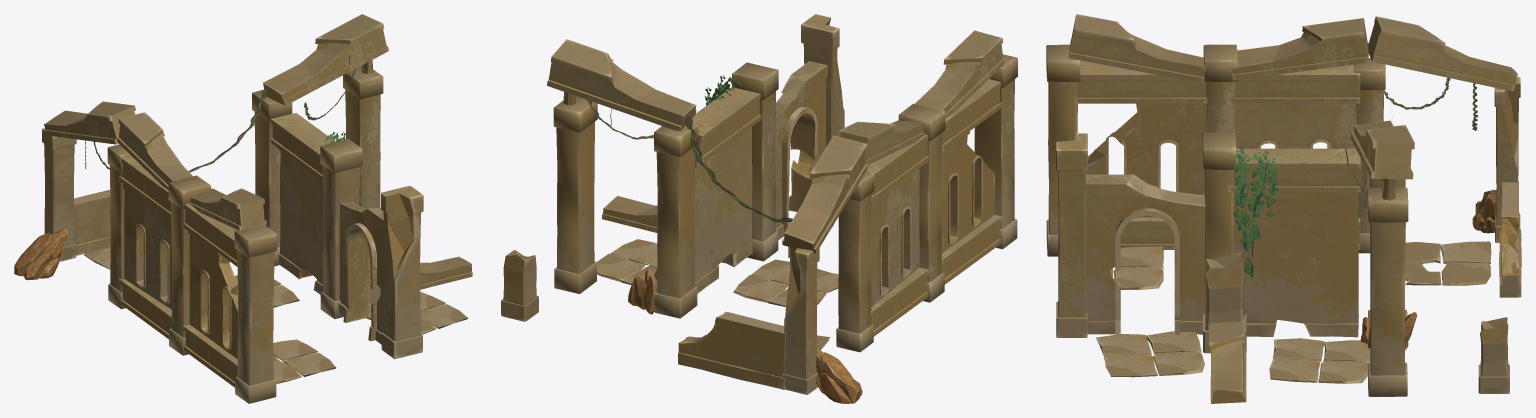
File: ruin.glb
3 renders of one model, left to right at view 1: azimuth 30°, elevation 25°; view 2: azimuth 150°, elevation 25°; view 3: azimuth 270°, elevation 25°, orthographic. The views are drawn at different scales.
Visible parts, largest first — view 1: Cube.006, Coloum.019, Cube.088, Coloum.012, Coloum.042, Wall.043, Wall.041, Coloum.014, Coloum.015, Cube.101, Coloum.011, Coloum.043 (+5 smaller); view 2: Cube.006, Coloum.019, Cube.088, Coloum.015, Coloum.016, Wall.043, Wall.019, Coloum.010, Coloum.014, Wall.041, Coloum.043, Coloum.012 (+7 smaller); view 3: Coloum.019, Cube.006, Cube.088, Wall.043, Cube.101, Coloum.015, Wall.041, Coloum.042, Coloum.044, Coloum.012, Coloum.014, Cube.095 (+9 smaller).
Boxes of the visible parts, <box> form: Cube.006: <box>43,14,472,289</box>; Coloum.019: <box>123,148,323,337</box>; Cube.088: <box>118,113,335,387</box>; Coloum.012: <box>234,225,276,403</box>; Coloum.042: <box>381,185,423,358</box>; Wall.043: <box>338,202,384,344</box>; Wall.041: <box>188,231,237,358</box>; Coloum.014: <box>320,139,362,318</box>; Coloum.015: <box>343,65,383,208</box>; Cube.101: <box>235,275,467,384</box>; Coloum.011: <box>168,175,210,355</box>; Coloum.043: <box>42,128,76,261</box>; Cube.006: <box>547,30,1005,253</box>; Coloum.019: <box>694,126,919,306</box>; Cube.088: <box>692,79,1003,336</box>; Coloum.015: <box>553,96,597,293</box>; Coloum.016: <box>654,123,697,318</box>; Wall.043: <box>775,61,827,239</box>; Wall.019: <box>678,311,785,389</box>; Coloum.010: <box>836,171,874,352</box>; Coloum.014: <box>732,62,778,261</box>; Wall.041: <box>941,131,994,253</box>; Coloum.043: <box>782,246,819,394</box>; Coloum.012: <box>974,54,1017,249</box>; Coloum.019: <box>1233,103,1358,337</box>; Cube.006: <box>1068,14,1517,403</box>; Cube.088: <box>1074,60,1360,249</box>; Wall.043: <box>1085,174,1205,334</box>; Cube.101: <box>1096,246,1370,383</box>; Coloum.015: <box>1367,187,1408,396</box>; Wall.041: <box>1086,103,1206,217</box>; Coloum.042: <box>1056,133,1087,337</box>; Coloum.044: <box>1203,252,1509,393</box>; Coloum.012: <box>1046,44,1080,256</box>; Coloum.014: <box>1202,132,1236,313</box>; Cube.095: <box>1405,241,1491,285</box>.
Bounding box in the file's own units: 7.02 × 4.34 × 7.18.
Materials: 4 (4 with a texture image).
